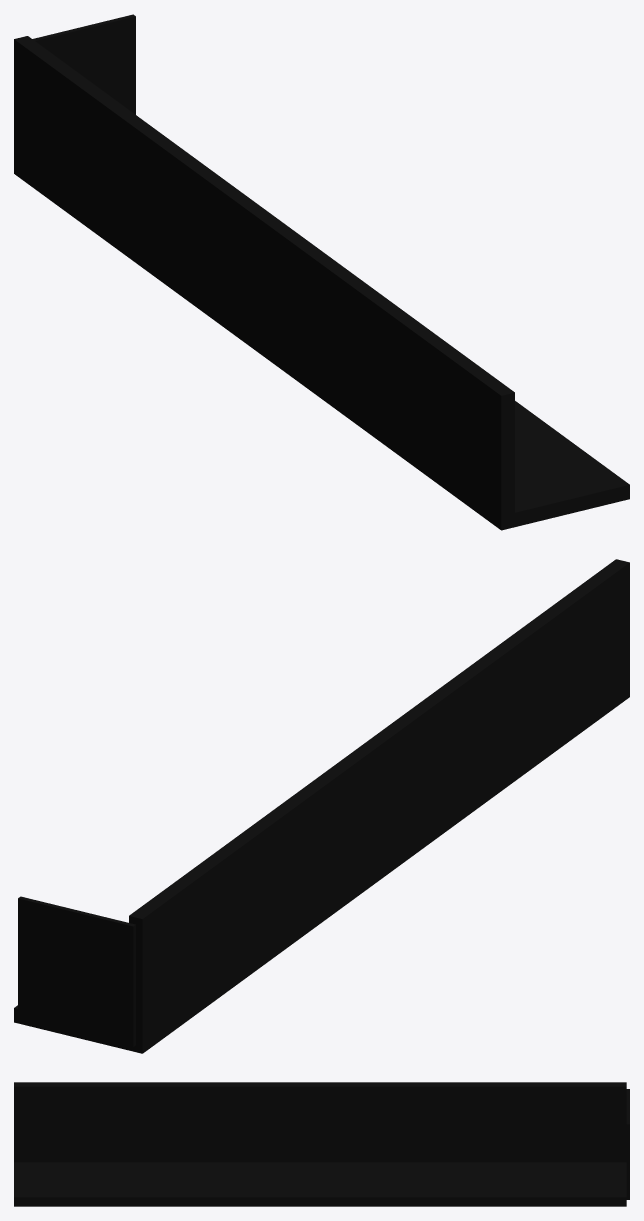
Rendered from wall_nw.obj.
3 views of the same model, one above another, from view 1: azimuth 30°, elevation 25°; view 2: azimuth 150°, elevation 25°; view 3: azimuth 270°, elevation 25° (orthographic). The views are drawn at different scales.
Size of the model in its own units: 1.12 by 1.12 by 7.39.
1 material, 1 textured.
